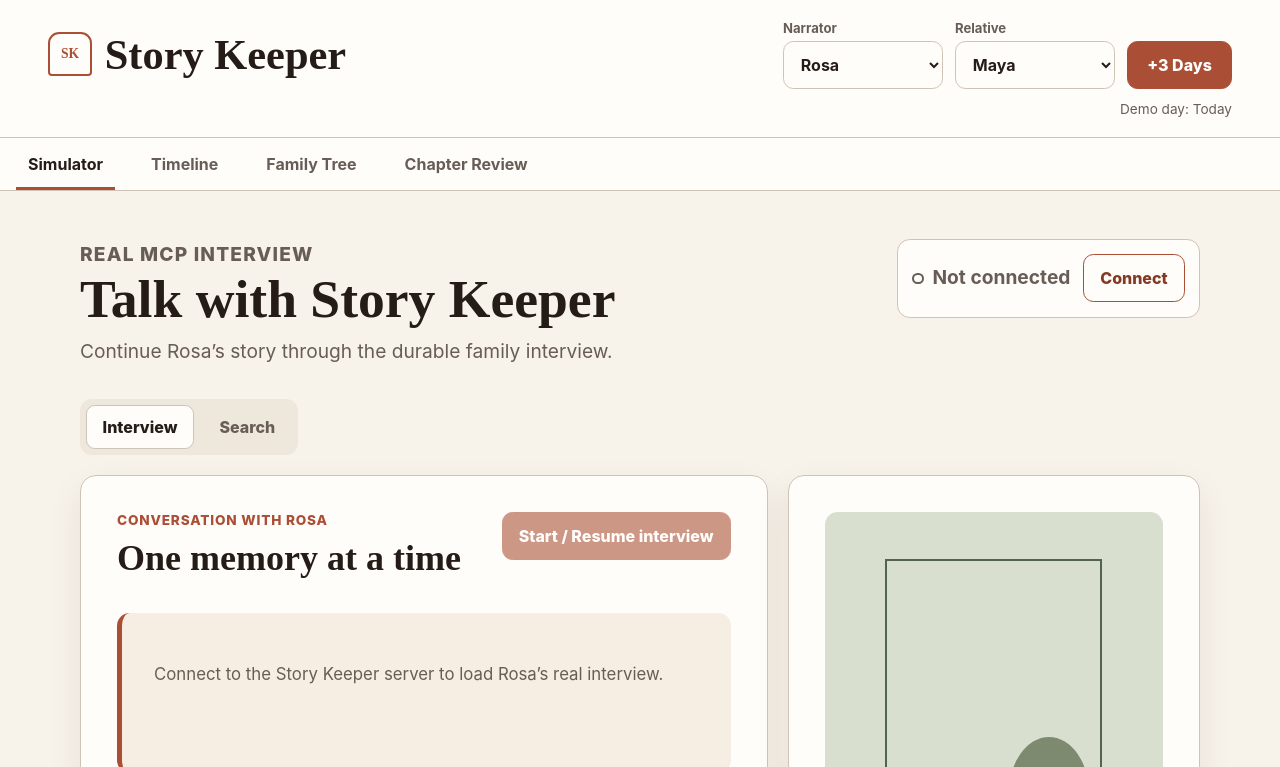
Test: SimulatorApp › treats an identical already-resolved replay as a stable canonical result
Step 1. Click the button "Connect" → (1134, 278), box [1083,254,1185,302]
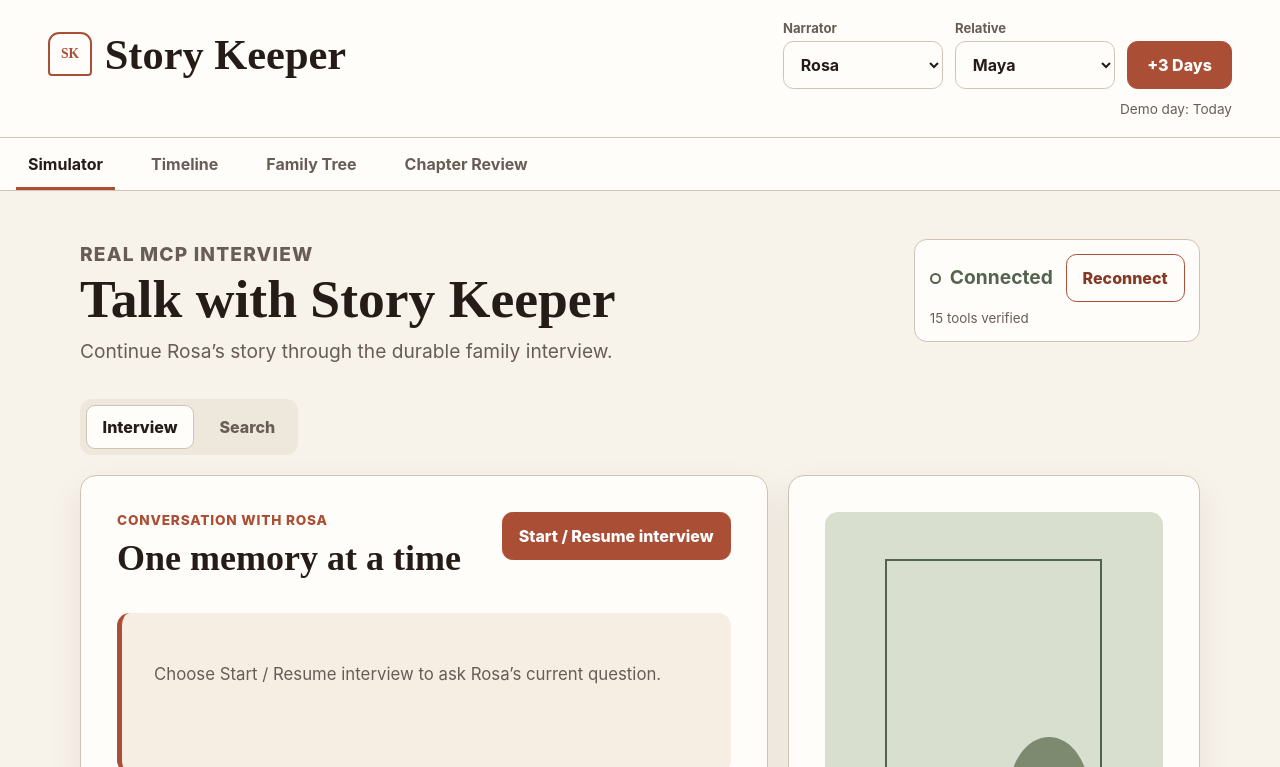
Result: the text "15 tools verified" is shown at [930,310,1029,326]
Step 2. Click the button "Start / Resume interview" → (616, 536), box [502,512,730,560]
(page scrolled)
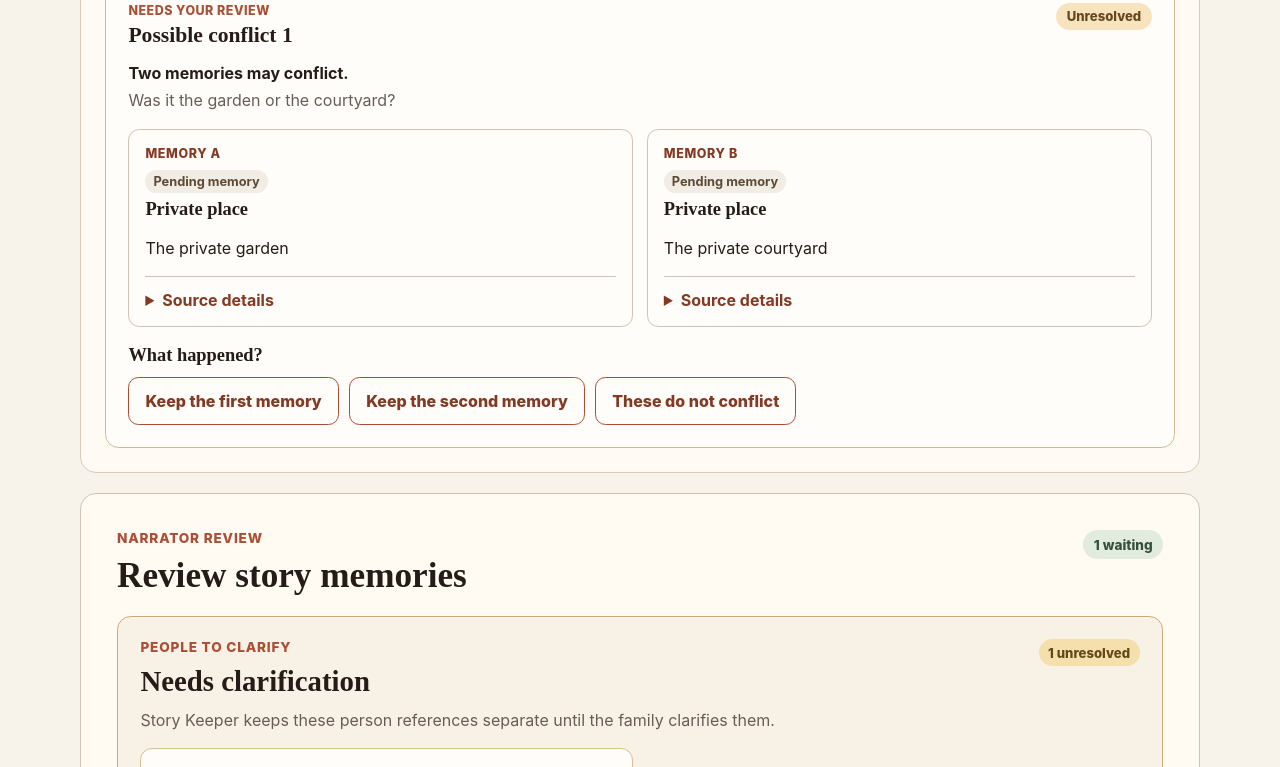
Result: the heading "Possible conflict 1" is shown at [128,23,293,48]
Step 3. Click the button "Keep the first memory" → (234, 401), box [128,377,339,425]
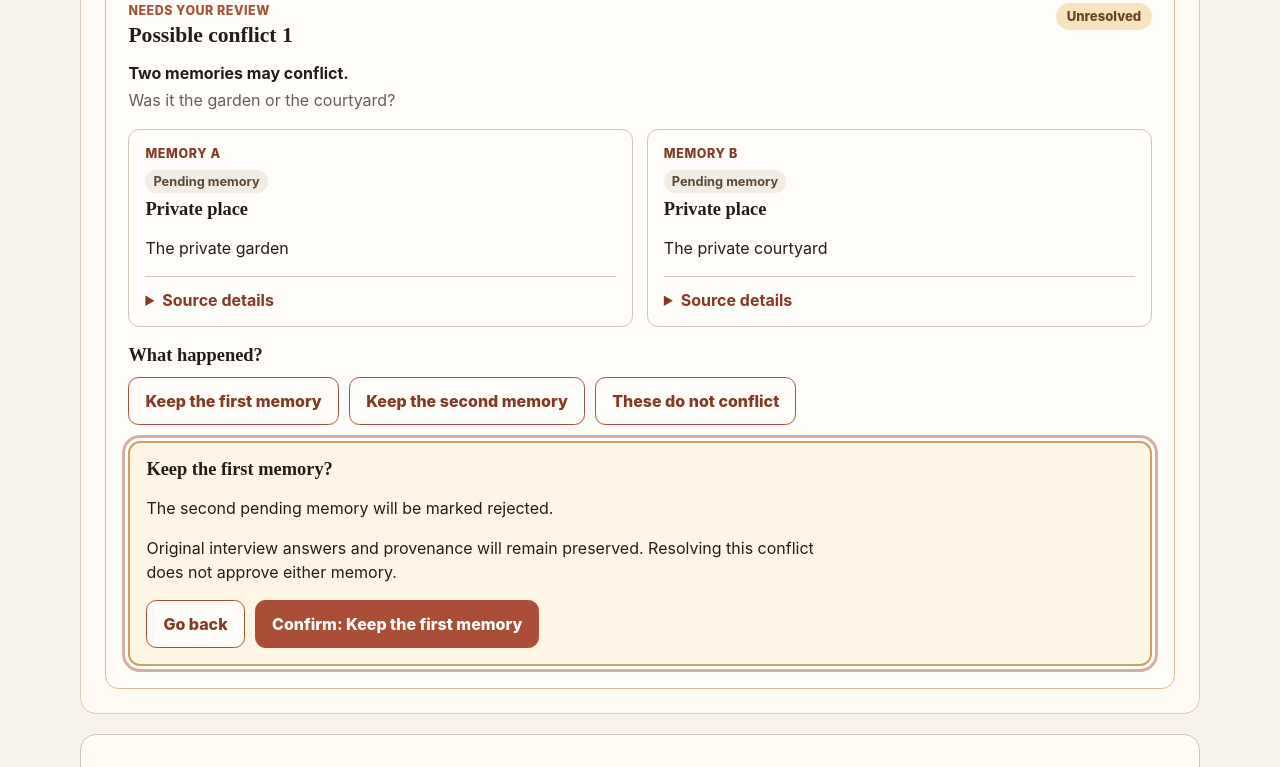
Step 4. Click the button "Confirm: Keep the first memory" → (397, 624), box [255,600,539,648]
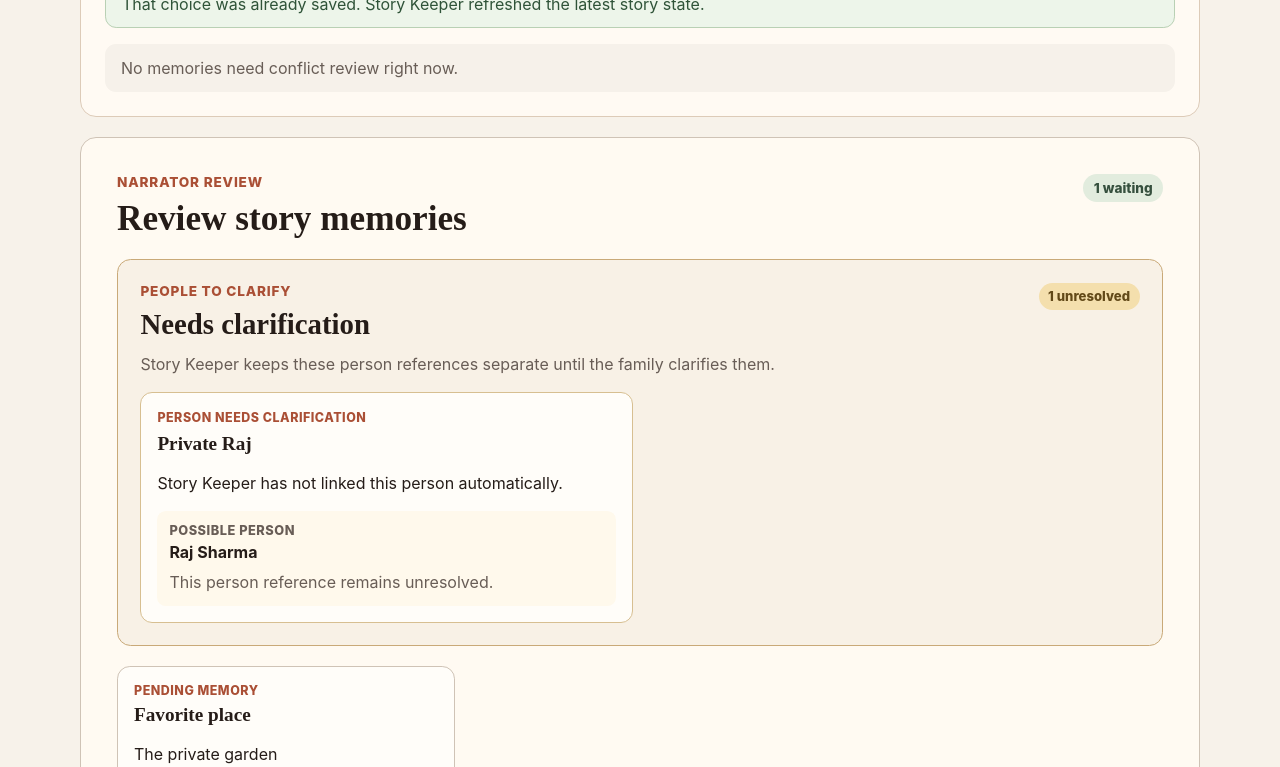
Result: the text "No memories need conflict review right now." is shown at [105,44,1175,92]
